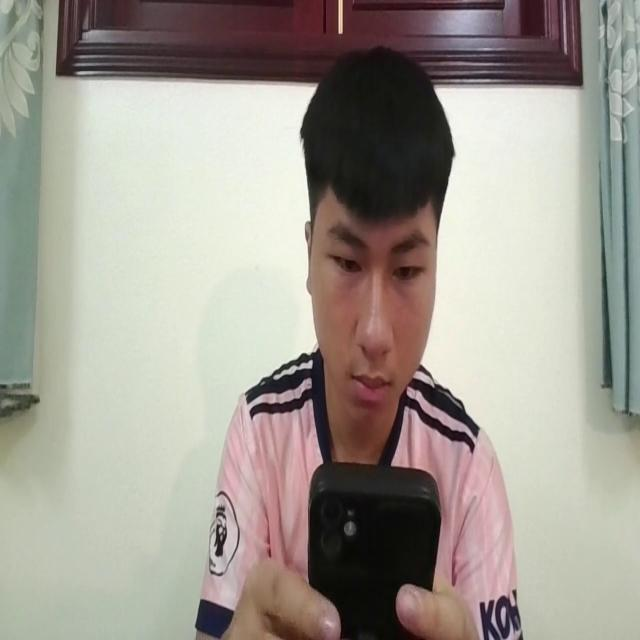phone: (306, 455, 440, 640)
student: (193, 43, 527, 640)
